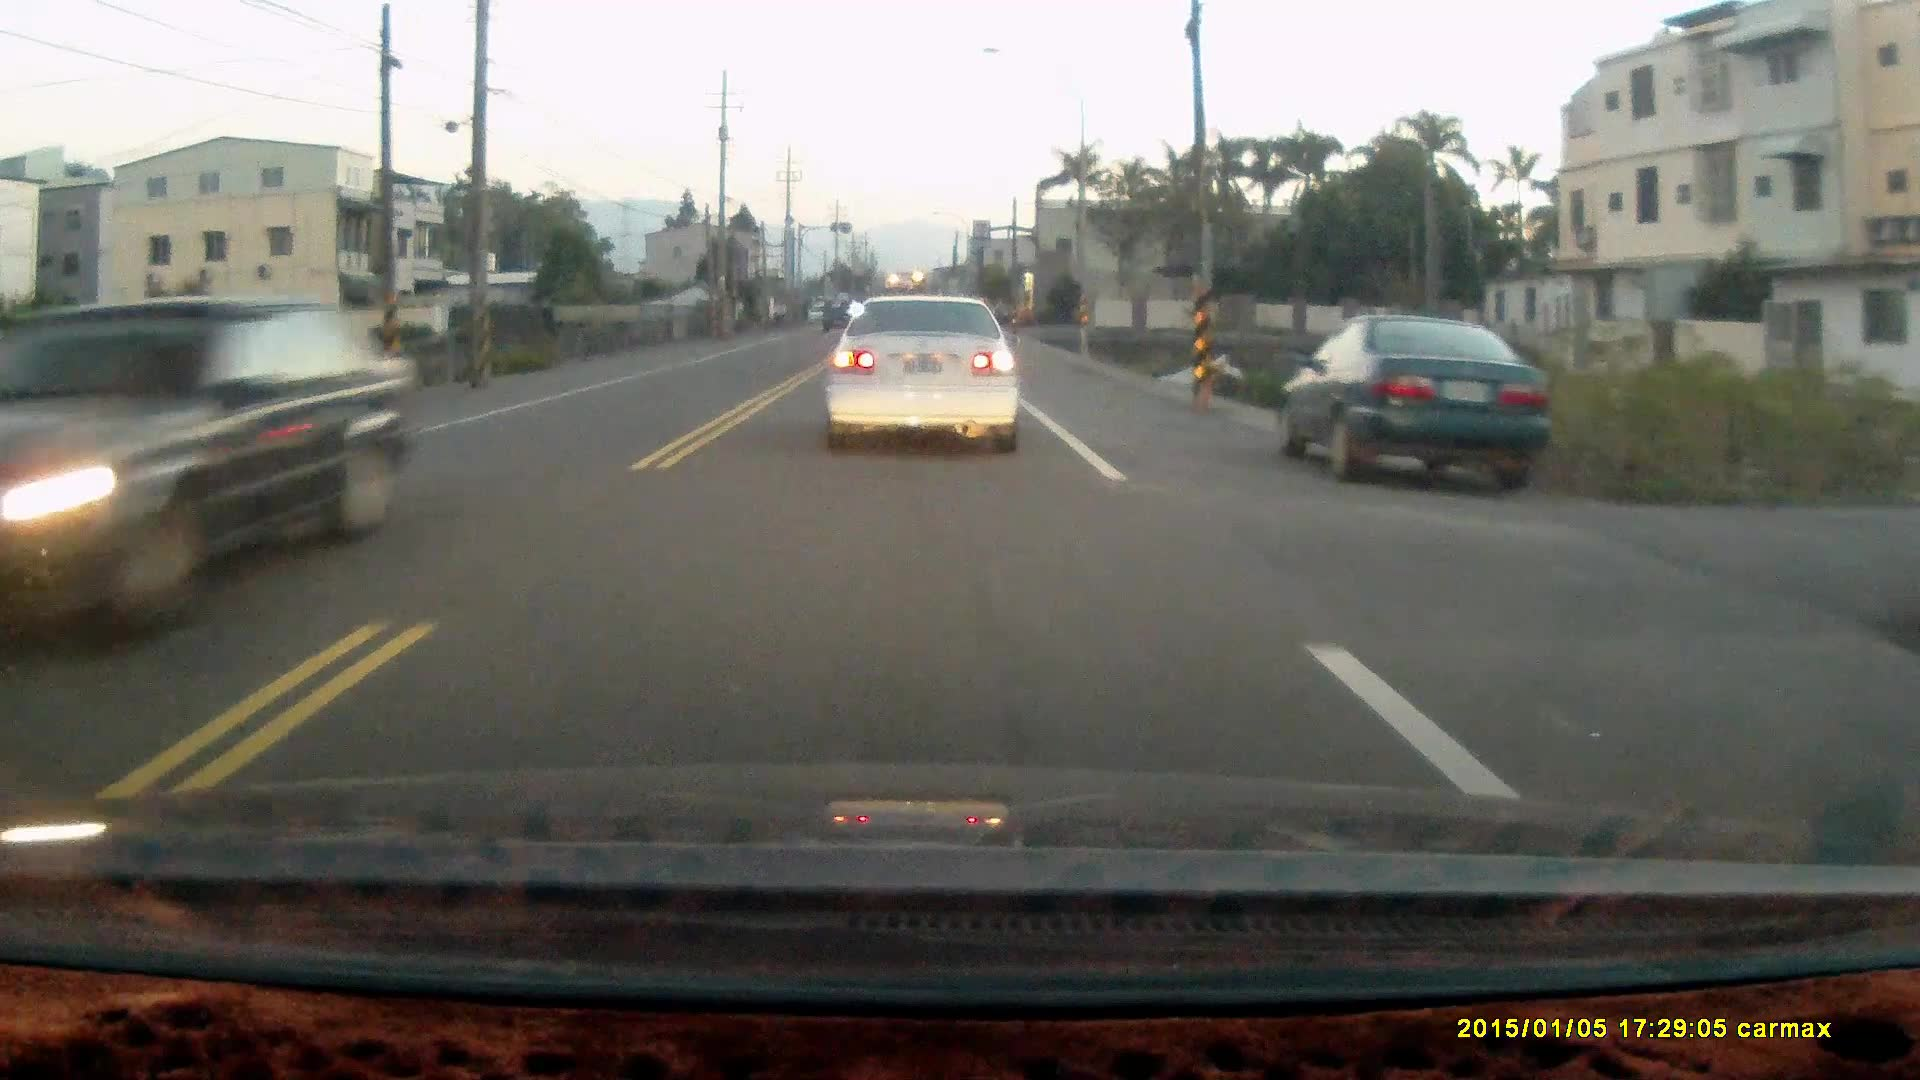vehicle: (1, 293, 435, 632), (1271, 315, 1545, 485), (824, 285, 1021, 442)
